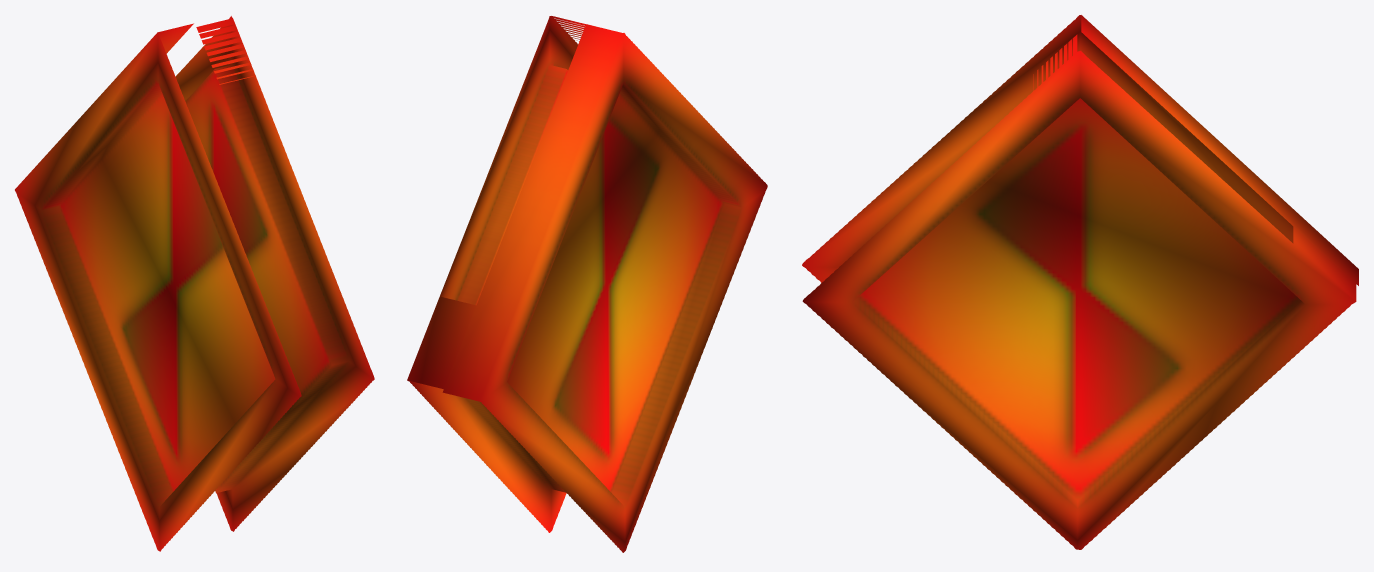
The model's file is Coin.fbx.
3 views of the same model, side by side, from view 1: azimuth 30°, elevation 25°; view 2: azimuth 150°, elevation 25°; view 3: azimuth 270°, elevation 25° (orthographic). The views are drawn at different scales.
Parts seen in each view (by area): view 1: Cube; view 2: Cube; view 3: Cube.
Part boxes in pixels (x1,y1,x2,y2): Cube: (15, 16, 374, 551); Cube: (407, 16, 767, 552); Cube: (802, 15, 1358, 549).
Size of the model in its own units: 41.37 by 283 by 283.
Materials: 1 (1 with a texture image).
